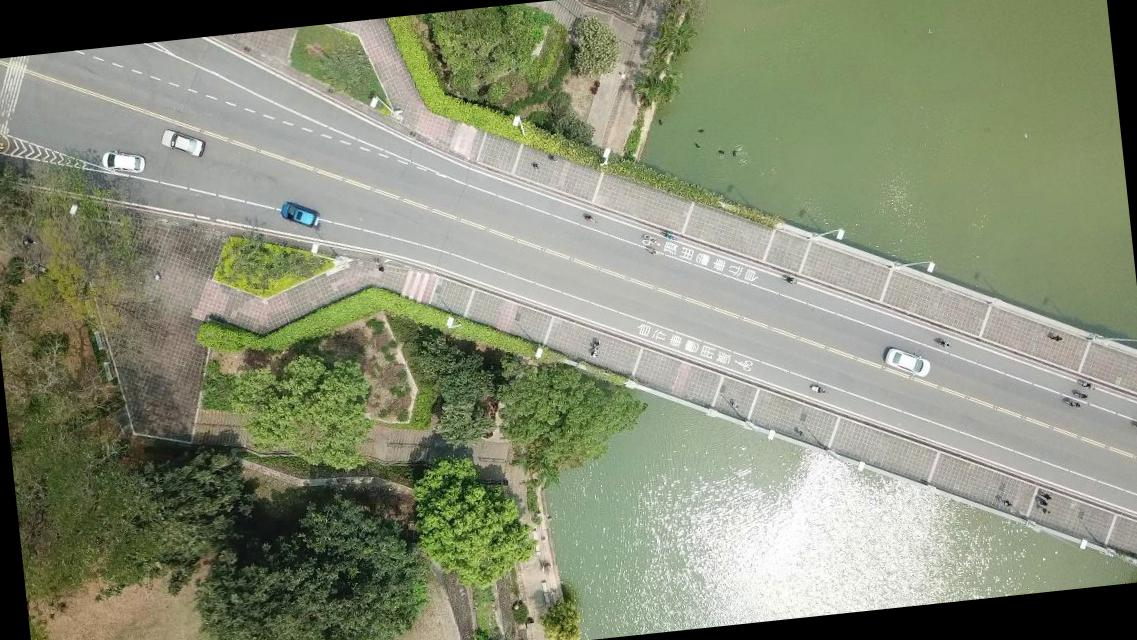vehicle: (882, 342, 931, 382), (159, 124, 207, 161), (100, 144, 147, 177), (279, 198, 321, 232)
